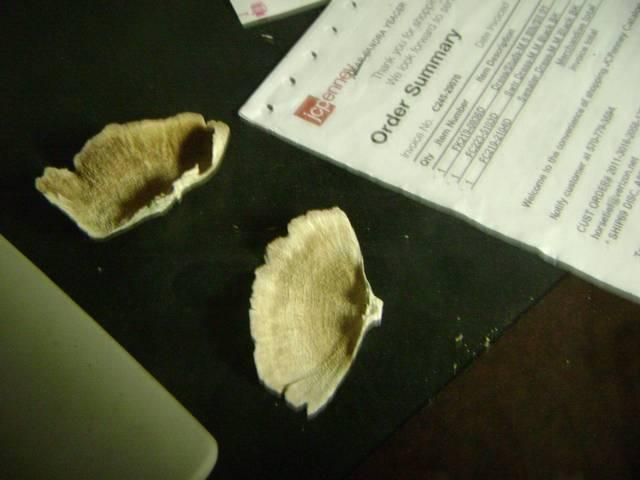poisonous_mushroom: (246, 204, 384, 420), (33, 109, 231, 241)
